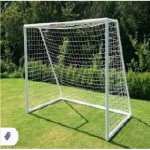goals: (22, 17, 133, 141)
